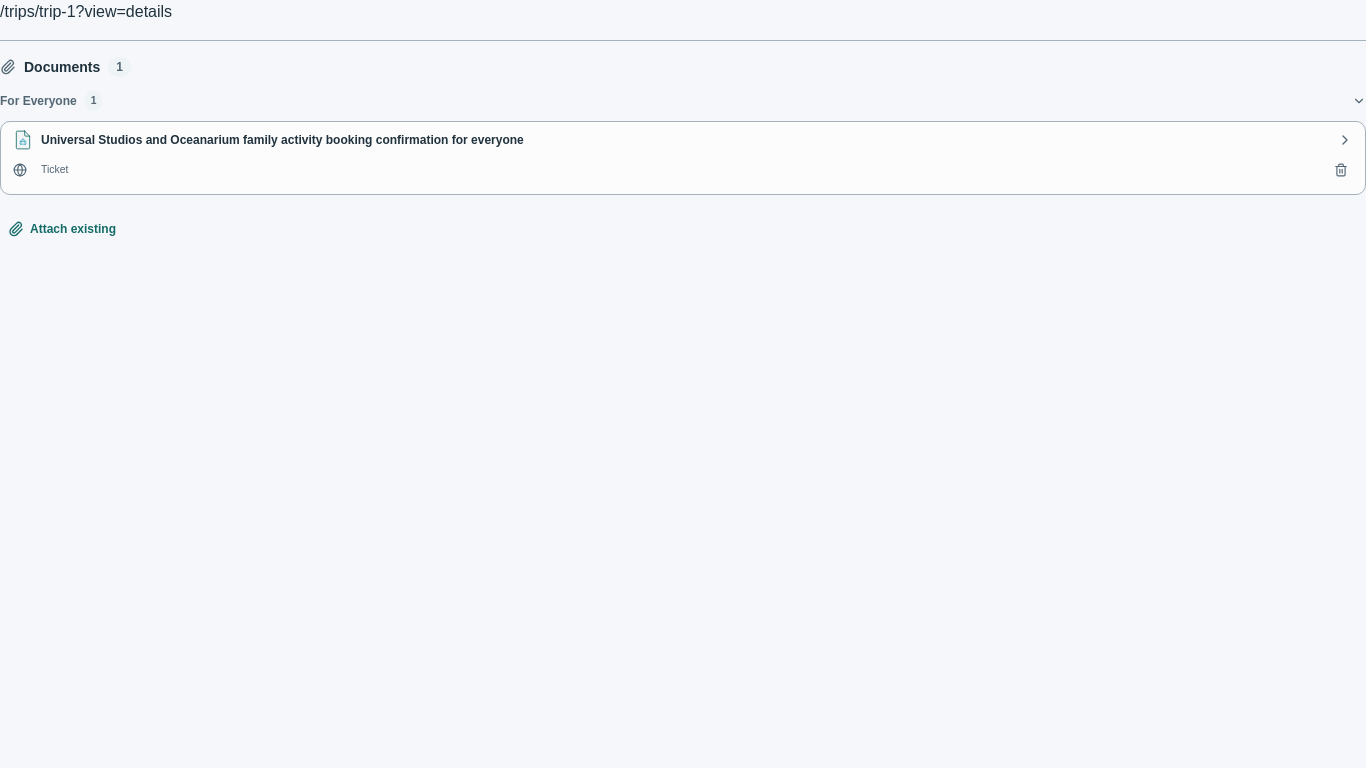
Scenario: event document cards › opens the document card while access explanations and unlink remain separate
The width and height of the screenshot is (1366, 768).
Expected: the link "Universal Studios and Oceanarium family activity booking confirmation for everyone" shows "Ticket", [1,122,1365,194]
Expected: the link "Universal Studios and Oceanarium family activity booking confirmation for everyone" does not show "Trip members", [1,122,1365,194]
Click the button named "Unlink Universal Studios and Oceanarium family activity book": point(1341, 170) [1325,154,1357,186]
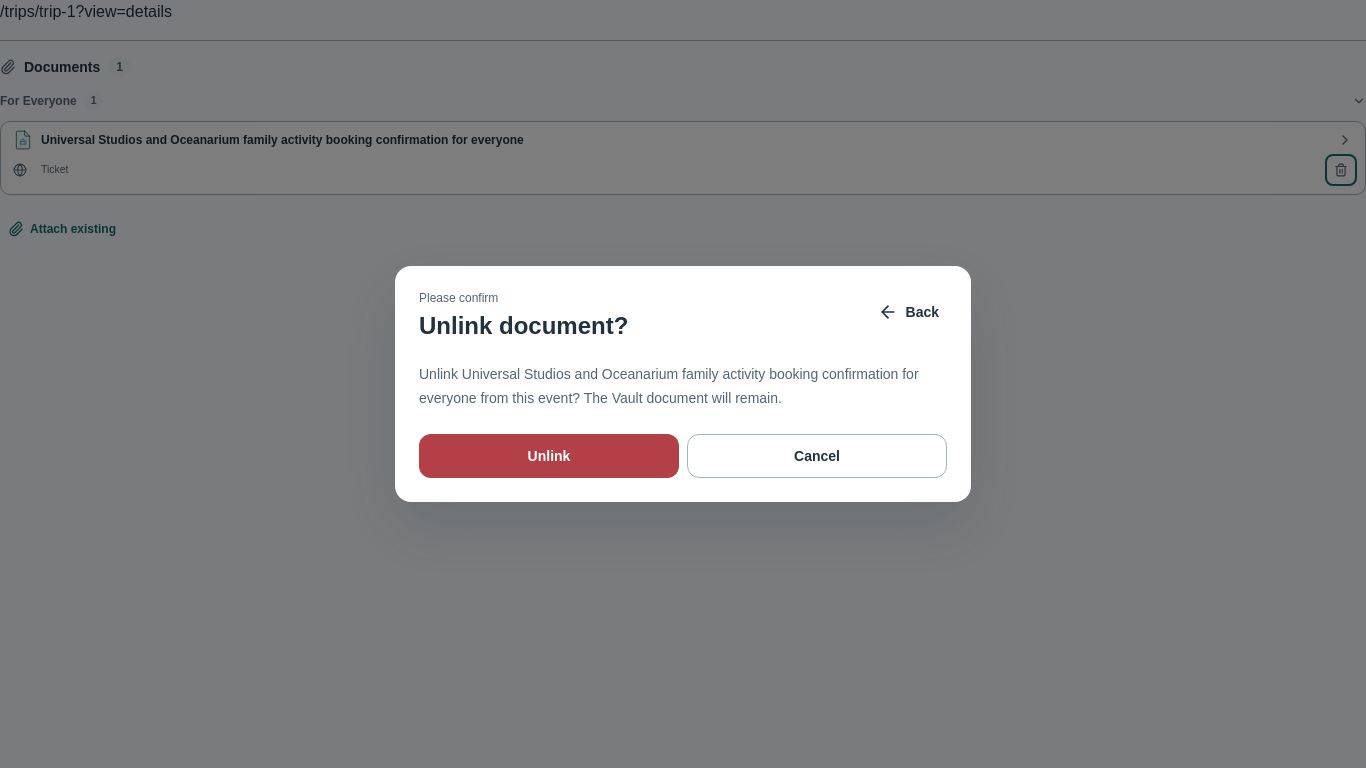
Expected: the text with test id "location" reads "/trips/trip-1?view=details", [0,3,172,20]
Expected: the dialog "Unlink document?" is shown, [395,266,971,502]
Click the button "Cancel": point(817, 456) [687,434,947,478]
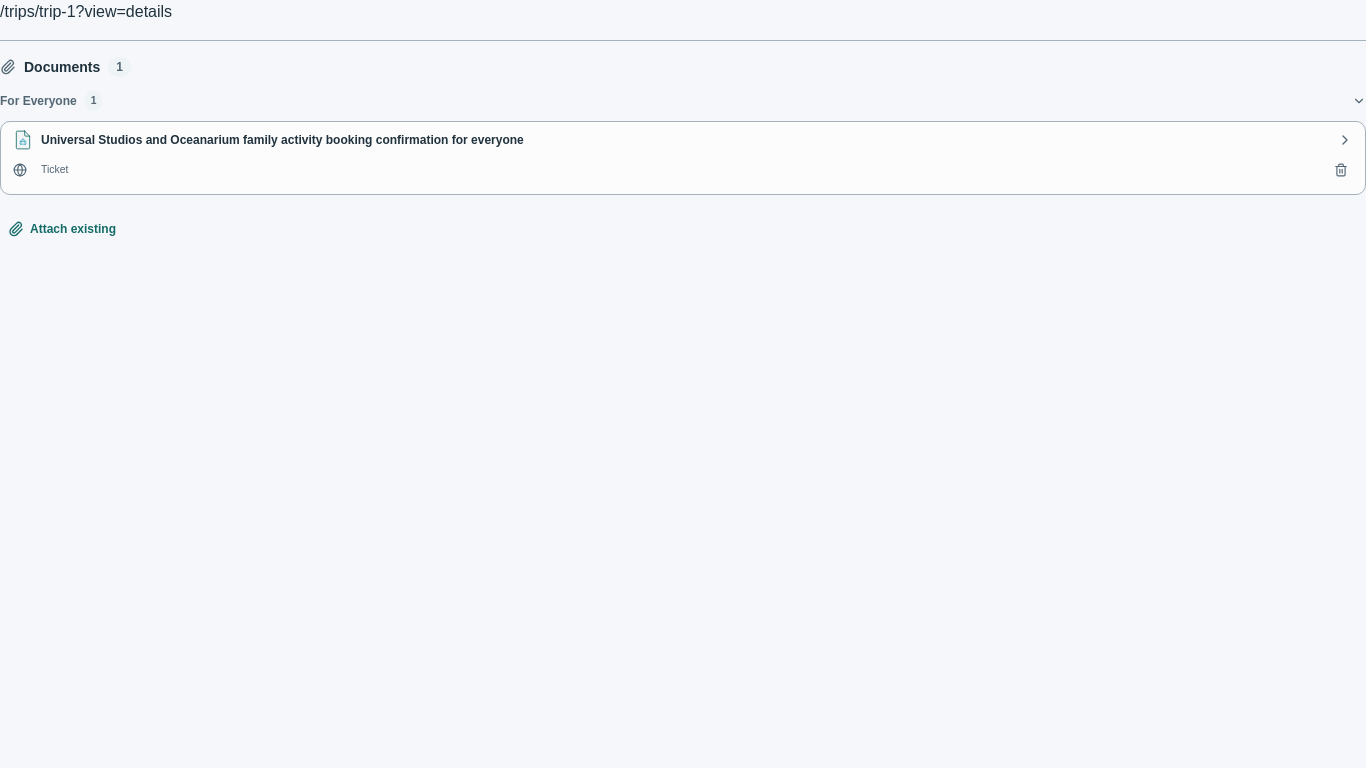
Click the link "Universal Studios and Oceanarium family activity booking confirmation for everyone": point(282, 140) [1,122,1365,194]
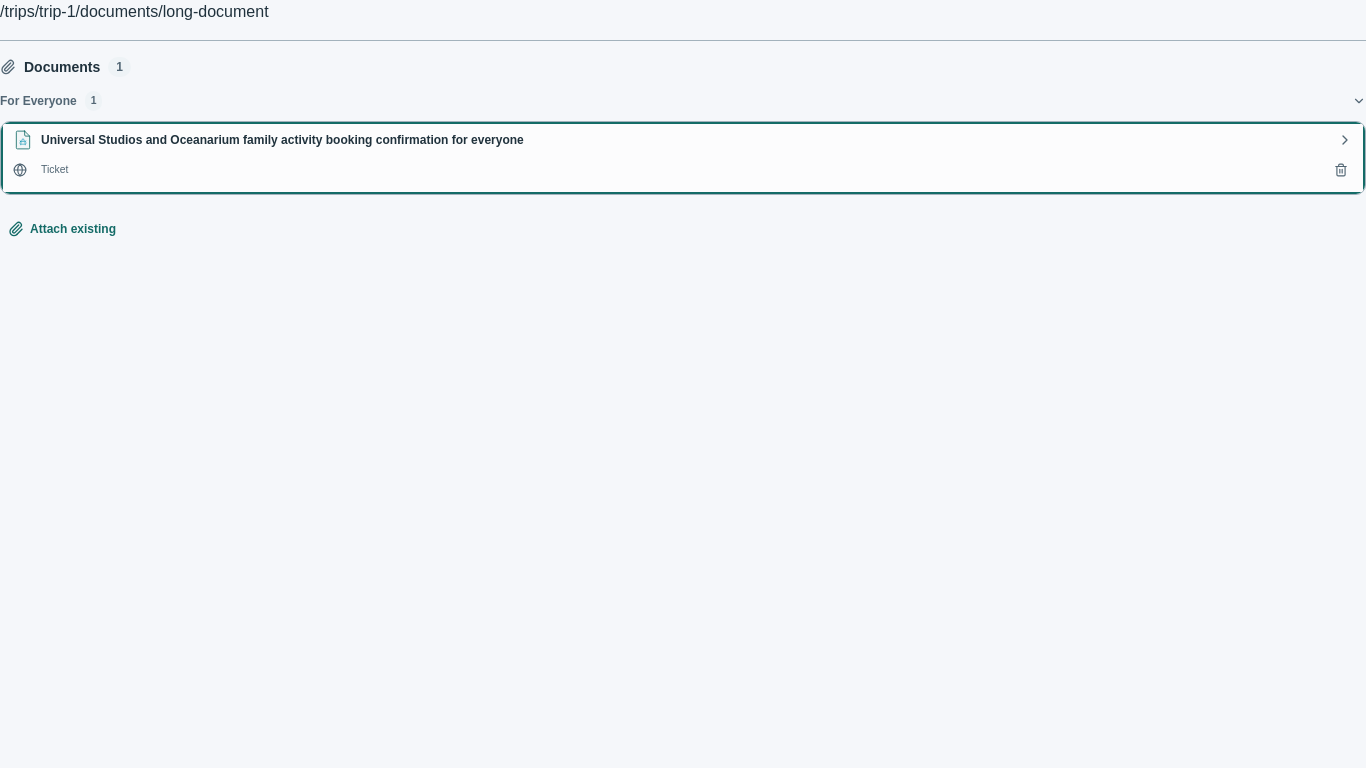
Expected: the text with test id "location" reads "/trips/trip-1/documents/long-document", [0,3,269,20]
